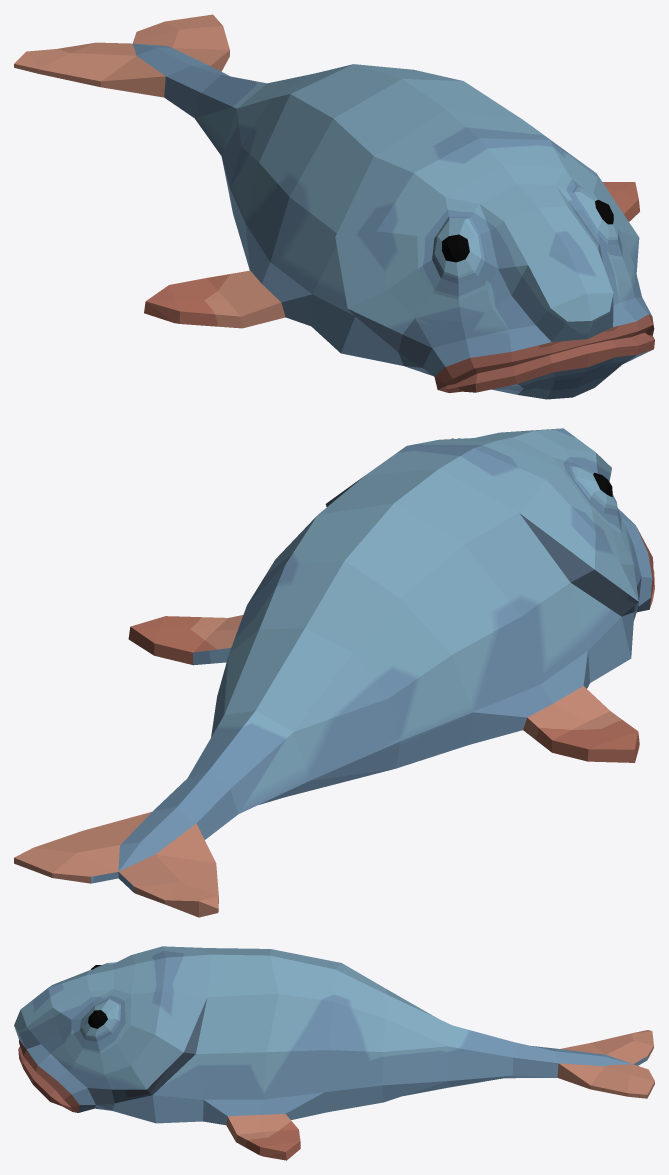
Rendered from SM_Prop_Fish_07.fbx.
3 renders of one model, top to bottom at view 1: azimuth 30°, elevation 25°; view 2: azimuth 150°, elevation 25°; view 3: azimuth 270°, elevation 25°, orthographic. The views are drawn at different scales.
Parts seen in each view (by area): view 1: SM_Prop_Fish_07; view 2: SM_Prop_Fish_07; view 3: SM_Prop_Fish_07.
Part boxes in pixels (left/top/right/bottom): SM_Prop_Fish_07: left=14, top=14, right=654, bottom=399; SM_Prop_Fish_07: left=14, top=428, right=654, bottom=917; SM_Prop_Fish_07: left=14, top=946, right=654, bottom=1160.
Bounding box in the file's own units: 81.19 × 31.73 × 136.
